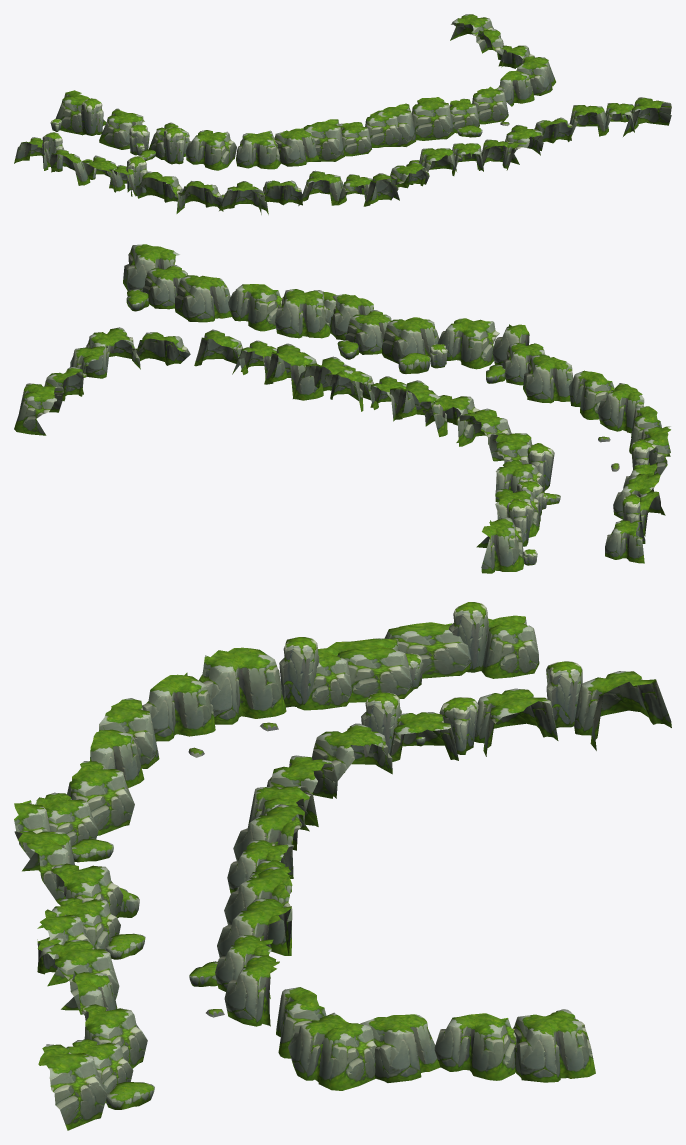
The model's file is lvyanshi_03.fbx.
The picture shows the model from 3 angles, top to bottom: view 1: azimuth 30°, elevation 25°; view 2: azimuth 150°, elevation 25°; view 3: azimuth 270°, elevation 25°; orthographic projection. The views are drawn at different scales.
Parts seen in each view (by area): view 1: polySurface303; view 2: polySurface303; view 3: polySurface303.
Part boxes in pixels (x1,y1,x2,y2): polySurface303: [14, 14, 671, 214]; polySurface303: [14, 244, 670, 573]; polySurface303: [14, 602, 671, 1130].
Bounding box in the file's own units: 16918 × 1078 × 9746.
1 material, 1 textured.
